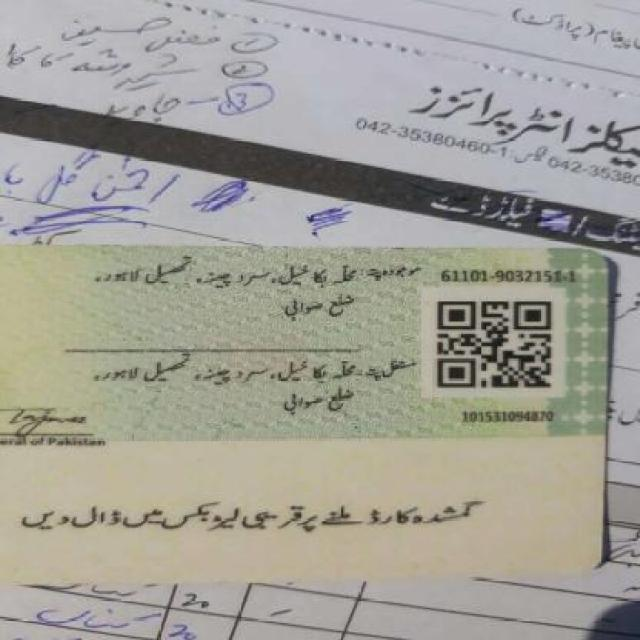Back: (3, 235, 623, 574)
